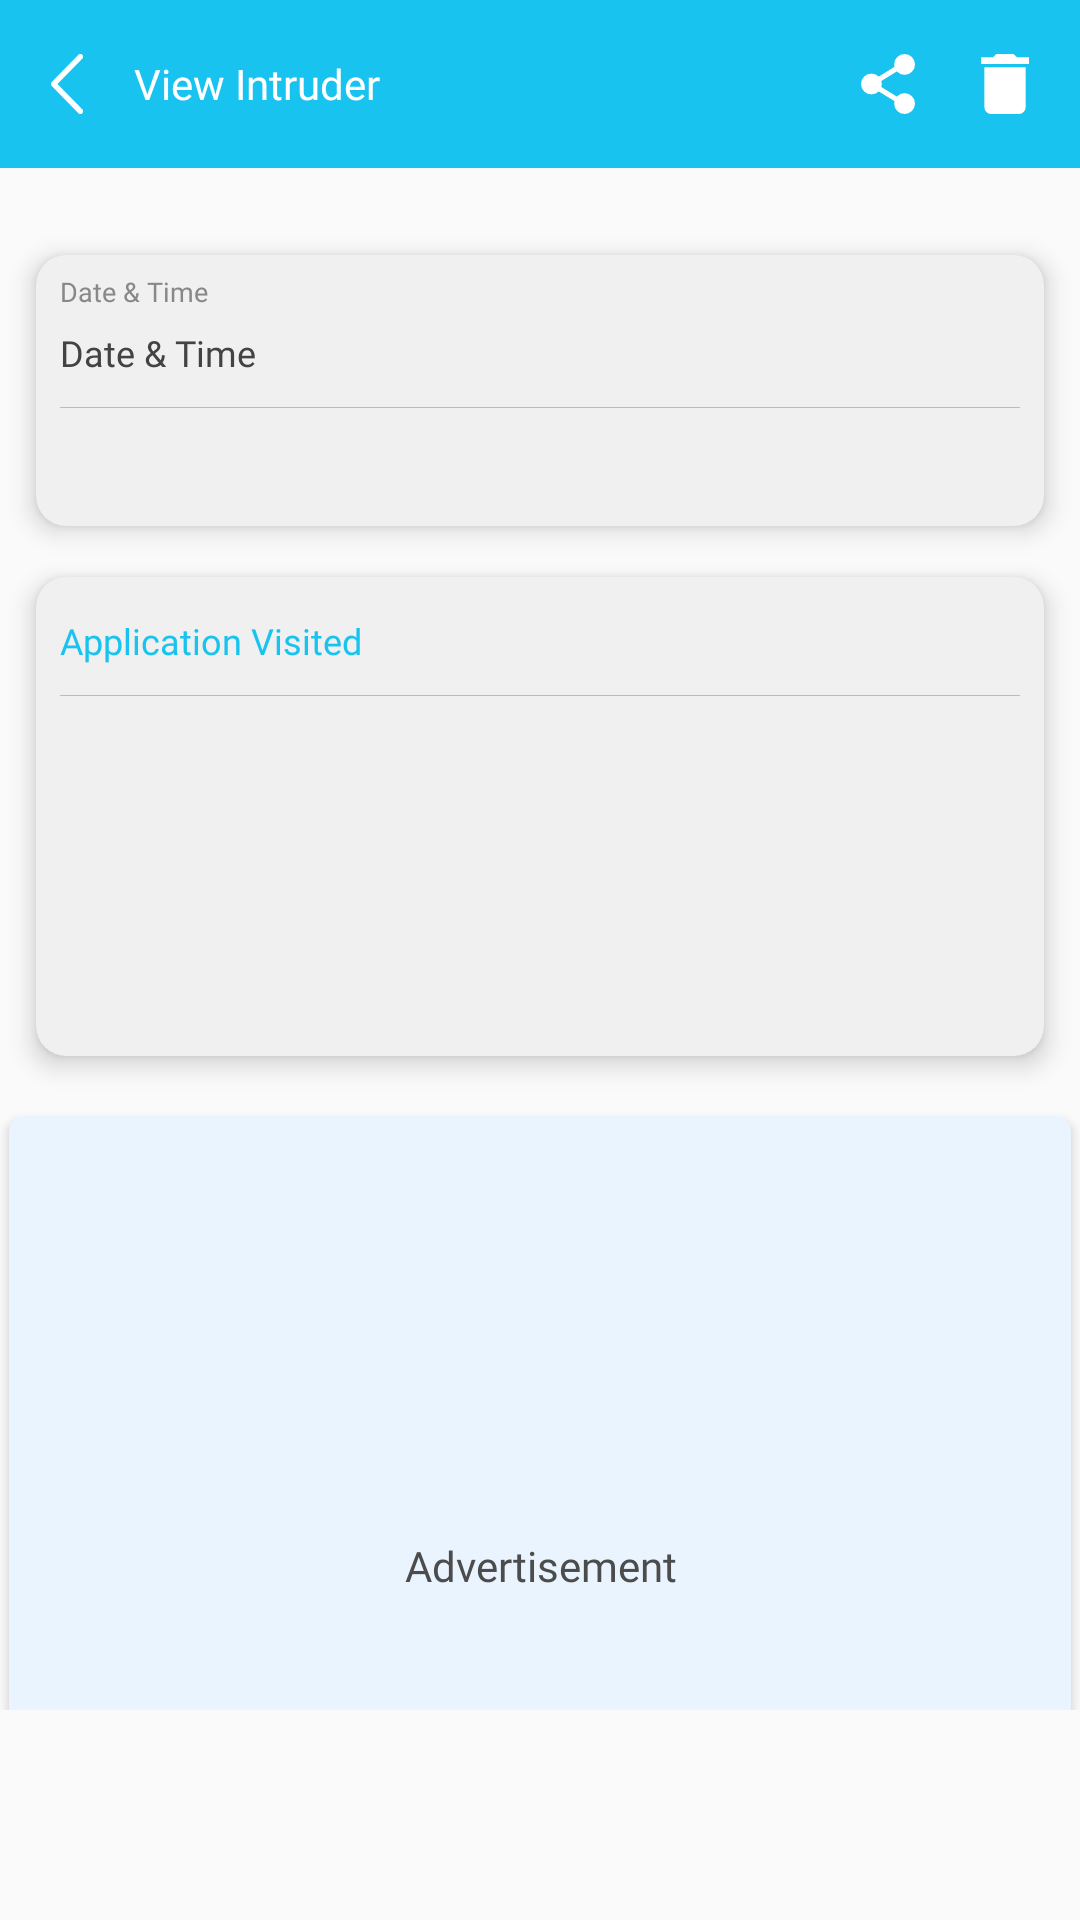

Where to tap for icons on this 1080 × 1920 app screen, as (x,y):
back: (67,84)
delete: (1005,84)
share: (888,84)
